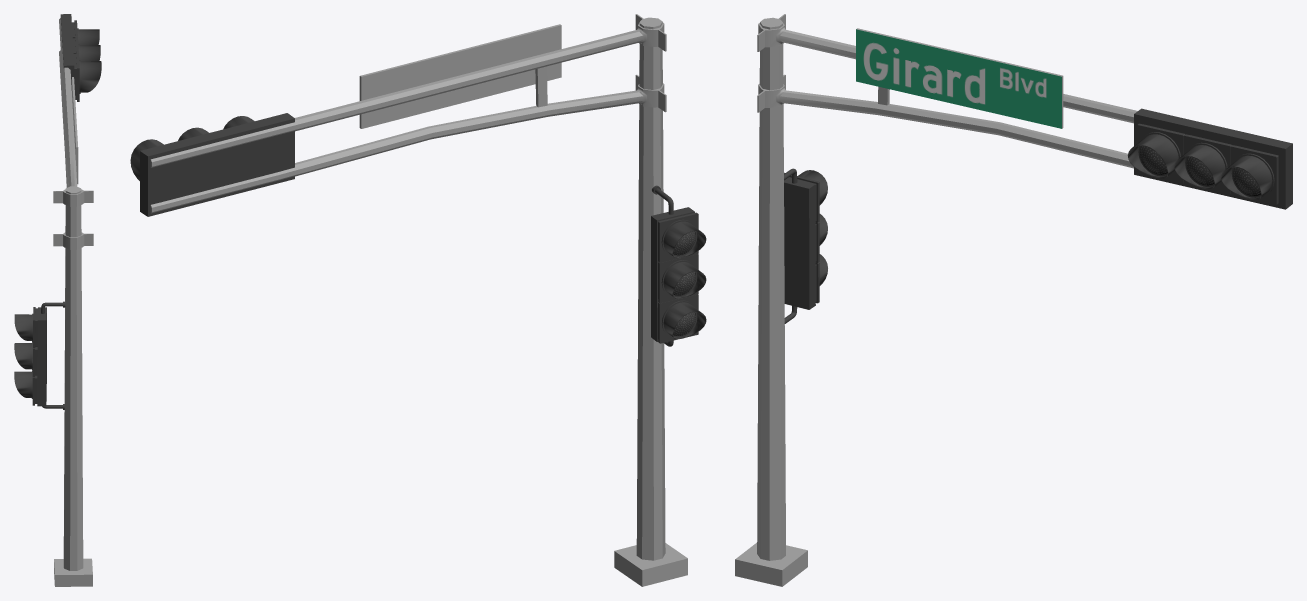
The model's file is Light8.fbx.
The picture shows the model from 3 angles, left to right: view 1: azimuth 30°, elevation 25°; view 2: azimuth 150°, elevation 25°; view 3: azimuth 270°, elevation 25°; orthographic projection. The views are drawn at different scales.
Parts seen in each view (by area): view 1: Traffic Lights.021; view 2: Traffic Lights.021; view 3: Traffic Lights.021.
Part boxes in pixels (x1,y1,x2,y2): Traffic Lights.021: (14,14,101,586); Traffic Lights.021: (130,14,706,586); Traffic Lights.021: (735,14,1292,586).
Bounding box in the file's own units: 570 × 892 × 796.
